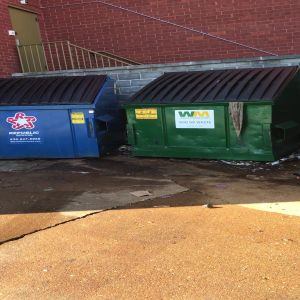Dumpster: (122, 64, 300, 162), (1, 75, 120, 160)
